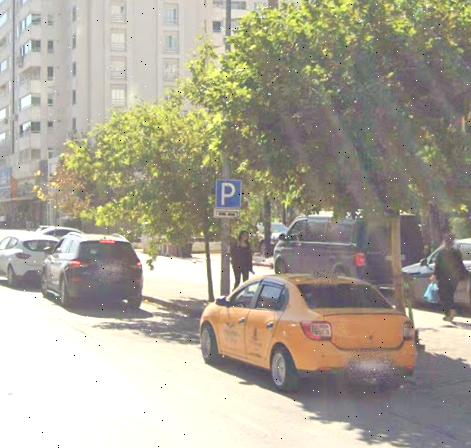park: (218, 181, 240, 208)
